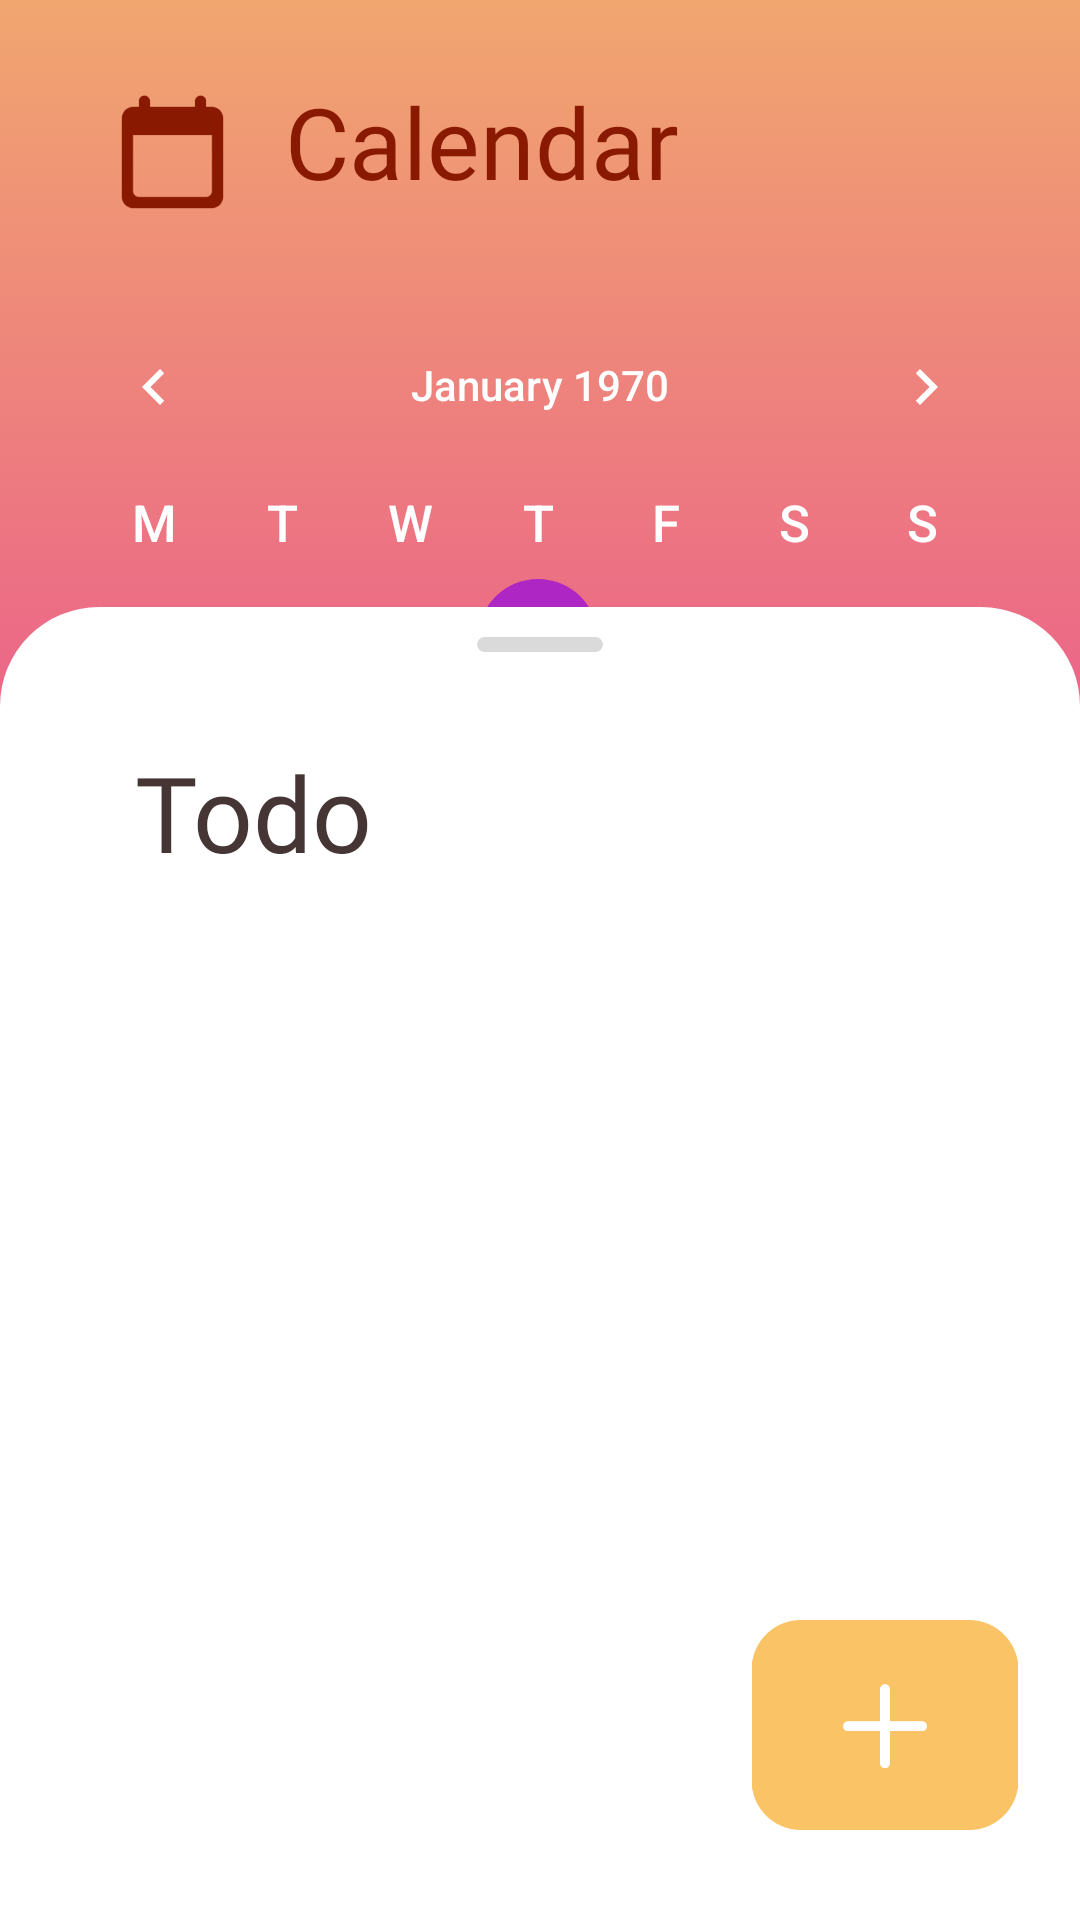

Point at icon controls on the screen. Image size 1080px x 1920px, points as [x,y].
add todo: [885,1725]
